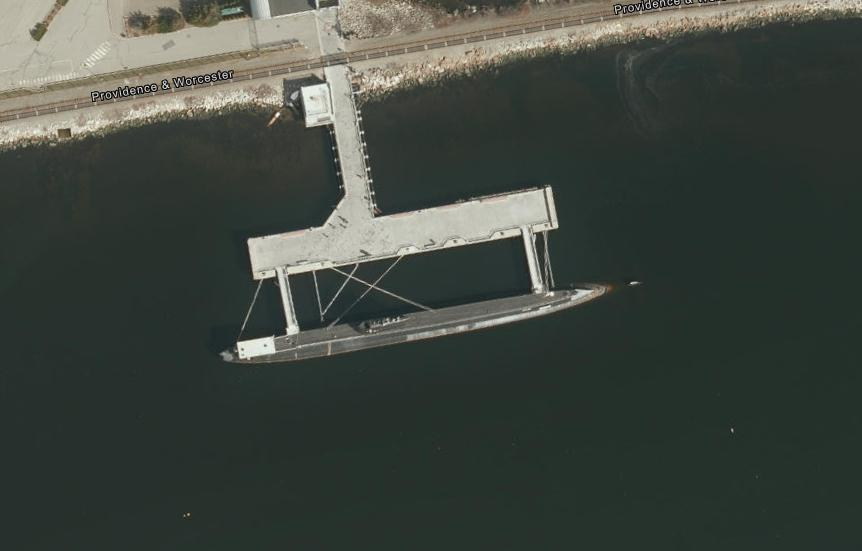submarine: (218, 278, 648, 371)
